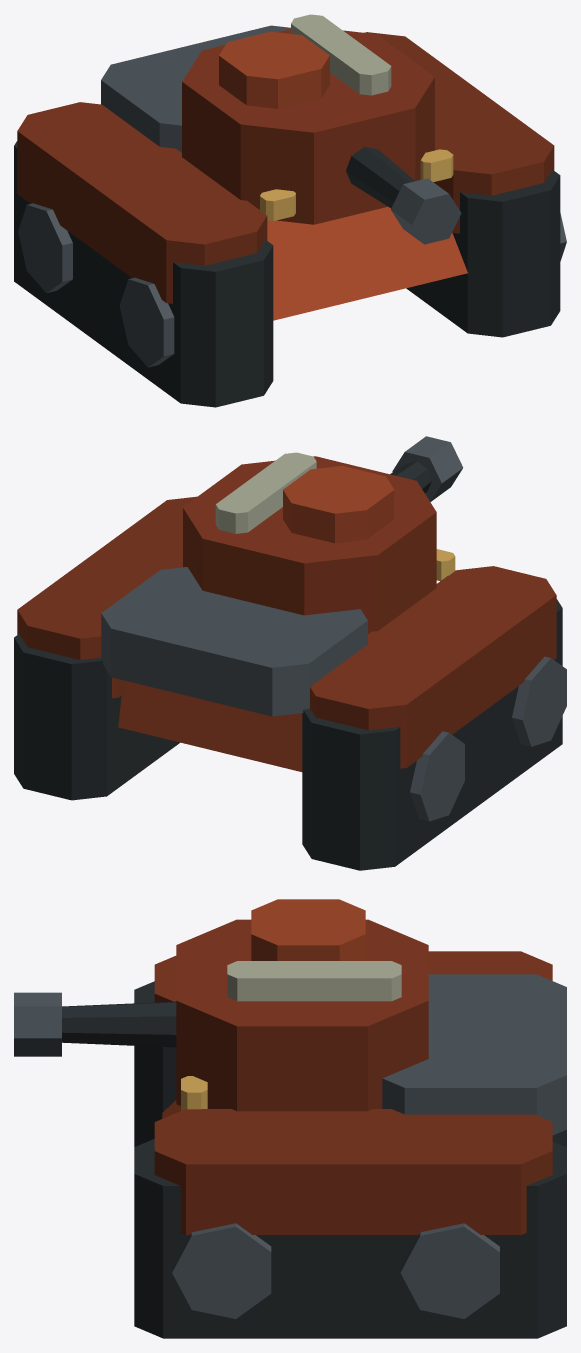
The model's file is enemy_light_tank.glb.
3 views of the same model, one above another, from view 1: azimuth 30°, elevation 25°; view 2: azimuth 150°, elevation 25°; view 3: azimuth 270°, elevation 25° (orthographic). The views are drawn at different scales.
Visible parts, largest first — view 1: enemy_light_tank; view 2: enemy_light_tank; view 3: enemy_light_tank.
Boxes of the visible parts, x1,y1,x2,y2 form: enemy_light_tank: (14,14,566,407); enemy_light_tank: (14,436,566,870); enemy_light_tank: (14,899,566,1338).
Size of the model in its own units: 0.866 by 0.541 by 0.92.
